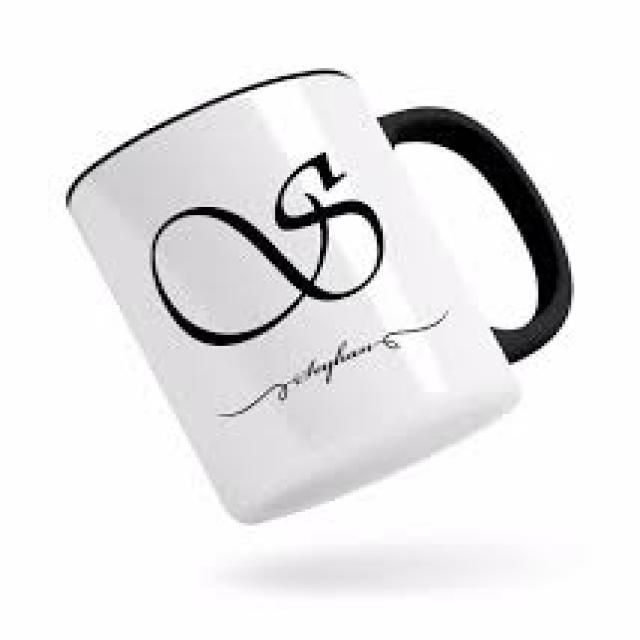taza: (61, 66, 574, 526)
